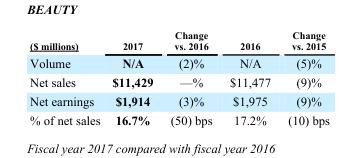table: (29, 29, 328, 126)
table column: (29, 29, 105, 126), (161, 29, 220, 126), (220, 29, 278, 126), (105, 29, 161, 126), (278, 29, 328, 126)
table column header: (29, 29, 328, 72)
table row: (29, 29, 328, 72), (29, 72, 328, 91), (29, 91, 328, 110), (29, 110, 328, 126)
